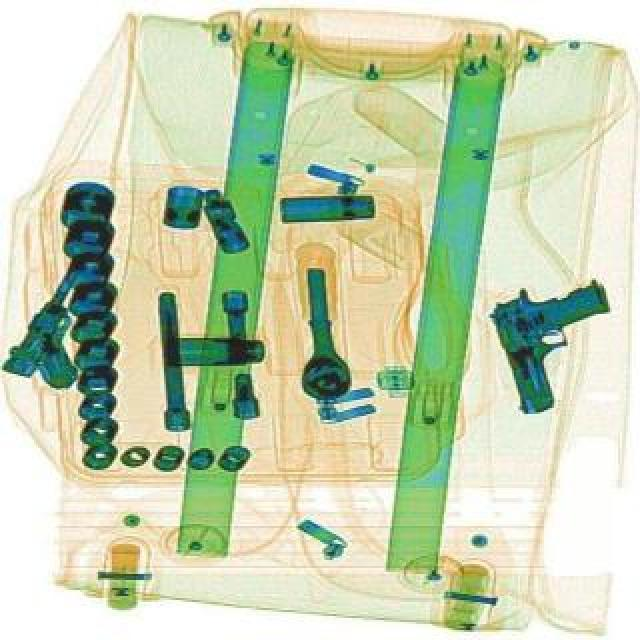gun: (484, 268, 630, 416), (0, 250, 136, 400)
